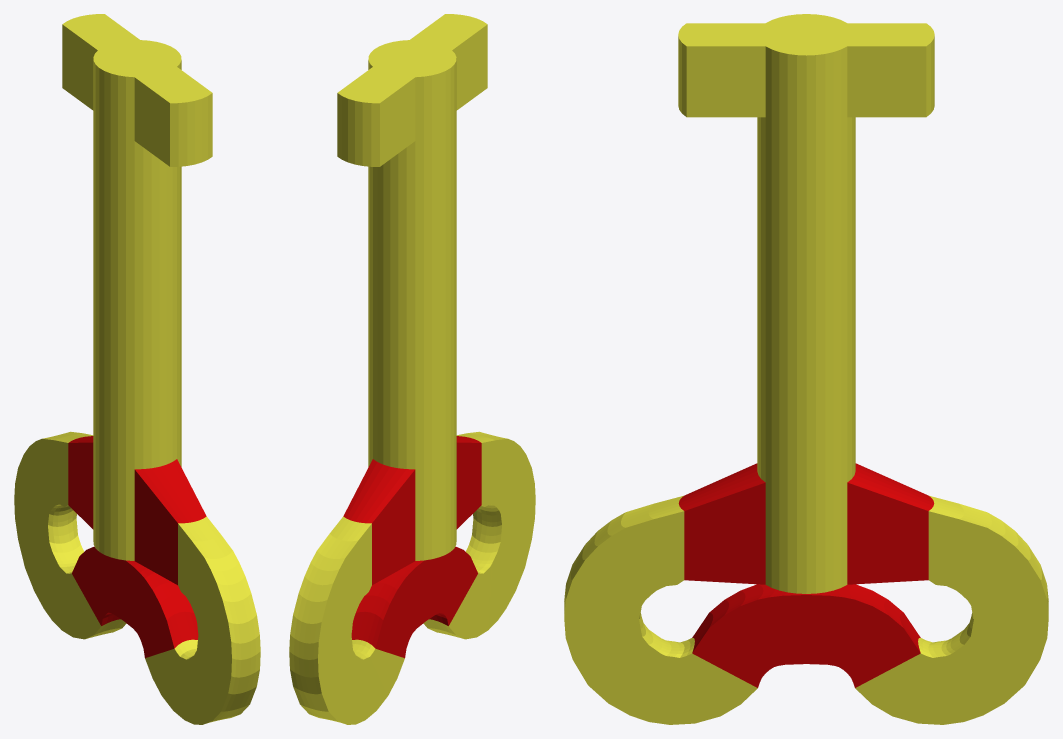
Rendered from RedKey.fbx.
3 renders of one model, left to right at view 1: azimuth 30°, elevation 25°; view 2: azimuth 150°, elevation 25°; view 3: azimuth 270°, elevation 25°, orthographic. The views are drawn at different scales.
Parts seen in each view (by area): view 1: Cylinder.001; view 2: Cylinder.001; view 3: Cylinder.001.
Part boxes in pixels (box(x1,y1,x2,y2)): Cylinder.001: box(14, 14, 260, 724); Cylinder.001: box(289, 14, 535, 724); Cylinder.001: box(564, 14, 1048, 724).
Size of the model in its own units: 49.18 by 377 by 243.
